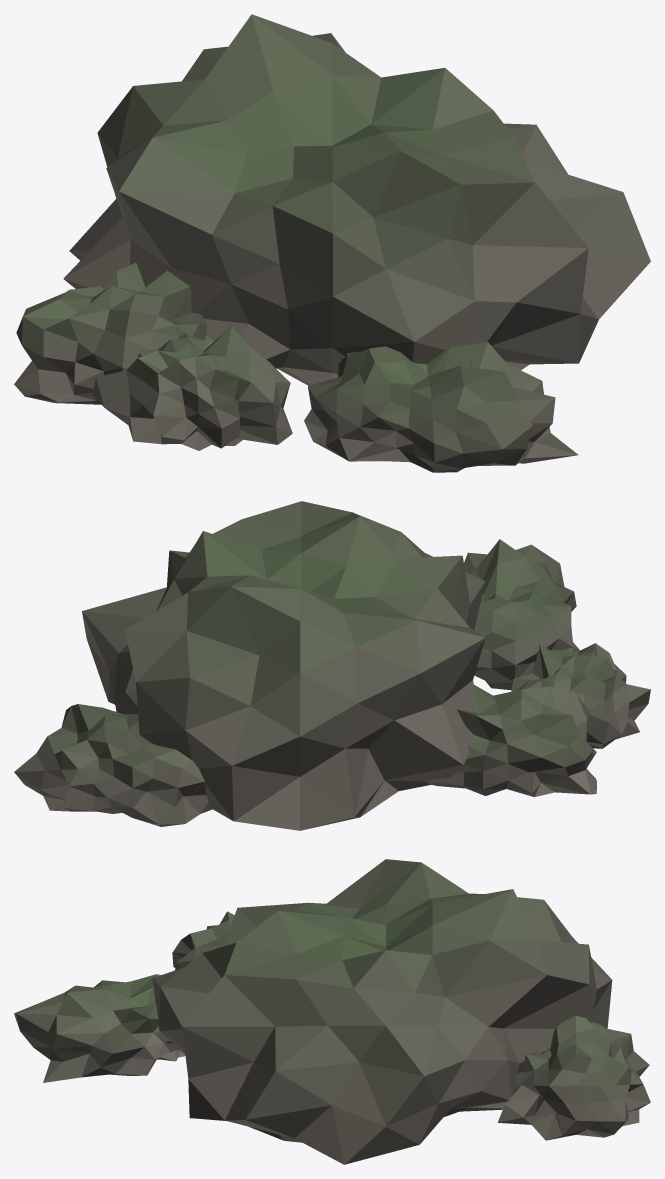
Rendered from rock.glb.
3 renders of one model, top to bottom at view 1: azimuth 30°, elevation 25°; view 2: azimuth 150°, elevation 25°; view 3: azimuth 270°, elevation 25°, orthographic. The views are drawn at different scales.
Parts seen in each view (by area): view 1: rock; view 2: rock; view 3: rock.
Boxes of the visible parts, <box> form: rock: <box>14,14,650,472</box>; rock: <box>14,501,650,830</box>; rock: <box>14,859,650,1164</box>.
Bounding box in the file's own units: 3.82 × 1.64 × 4.65.
